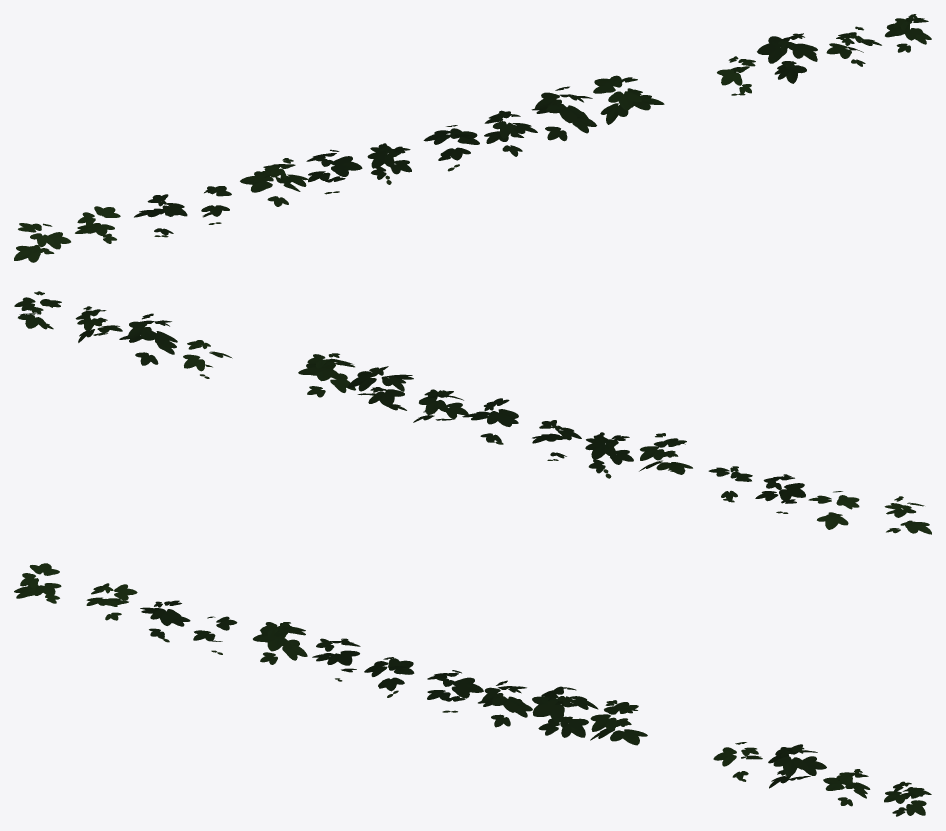
File: ROW_17_SEG1_foliage.dae
The picture shows the model from 3 angles, top to bottom: view 1: azimuth 30°, elevation 25°; view 2: azimuth 150°, elevation 25°; view 3: azimuth 330°, elevation 25°; orthographic projection.
Visible parts, largest first — view 1: ROW_17_SEG1_foliage; view 2: ROW_17_SEG1_foliage; view 3: ROW_17_SEG1_foliage.
Part boxes in pixels (<box>): ROW_17_SEG1_foliage: <box>14,14,931,262</box>; ROW_17_SEG1_foliage: <box>14,291,931,534</box>; ROW_17_SEG1_foliage: <box>14,563,931,816</box>.
Bounding box in the file's own units: 4.84 × 0.3299 × 0.2569.
